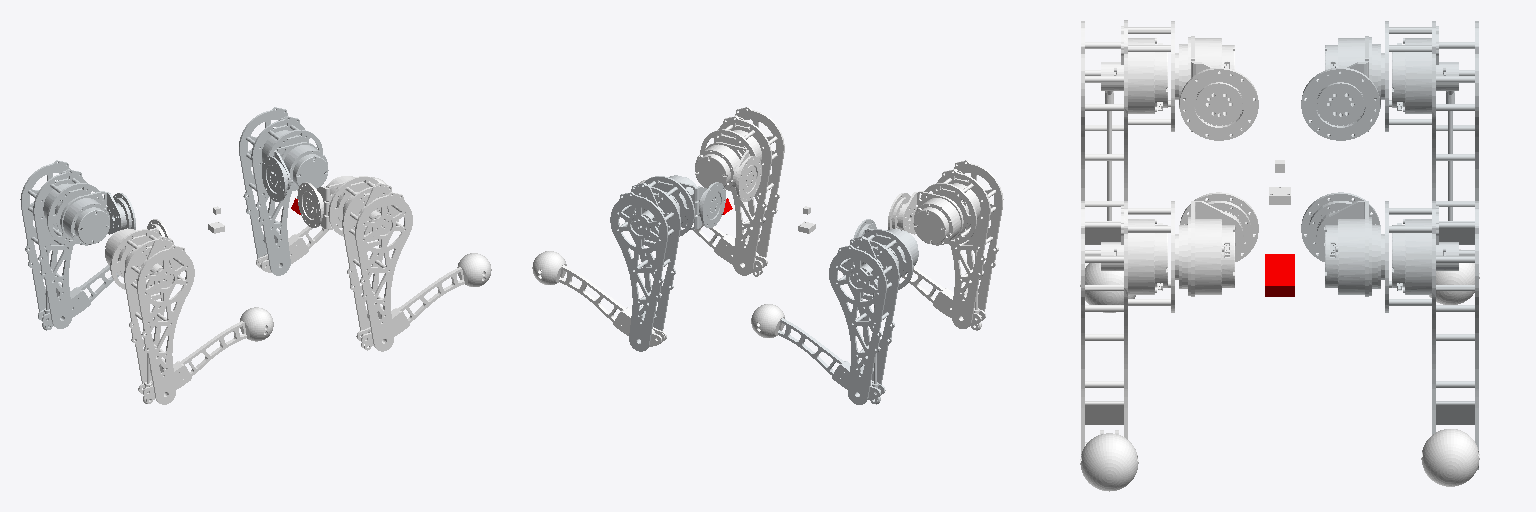
robot.urdf — newdog7:
<?xml version="1.0" encoding="utf-8"?>
<!-- Copyright (c) 2026 taojunfeng123
     SPDX-License-Identifier: Apache-2.0 -->

<!-- This URDF was automatically created by SolidWorks to URDF Exporter! Originally created by Stephen Brawner (brawner@gmail.com)
     Commit Version: 1.6.0-4-g7f85cfe  Build Version: 1.6.7995.38578
     For more information, please see http://wiki.ros.org/sw_urdf_exporter -->
<robot
  name="newdog7">
  <link
    name="base_link">
    <inertial>
      <origin
        xyz="3.33066907387547E-16 -1.52308721190764E-15 8.67361737988404E-19"
        rpy="0 0 0" />
      <mass
        value="0.0010000" />
      <inertia
        ixx="0.0000000"
        ixy="0.0000000"
        ixz="0.0000000"
        iyy="0.0000000"
        iyz="0.0000000"
        izz="0.0000000" />
    </inertial>
    <visual>
      <origin
        xyz="0 0 0"
        rpy="0 0 0" />
      <geometry>
        <mesh
          filename="package://newdog7/meshes/base_link.STL" />
      </geometry>
      <material
        name="">
        <color
          rgba="1 1 1 1" />
      </material>
    </visual>
    <collision>
      <origin
        xyz="0 0 0"
        rpy="0 0 0" />
      <geometry>
        <mesh
          filename="package://newdog7/meshes/base_link.STL" />
      </geometry>
    </collision>
  </link>
  <link
    name="trunk_link">
    <inertial>
      <origin
        xyz="-0.000914596355781658 -0.00588588083227612 -0.0101666909289931"
        rpy="0 0 0" />
      <mass
        value="4.6043039" />
      <inertia
        ixx="0.0304155"
        ixy="-0.0001536"
        ixz="-0.0000979"
        iyy="0.0576475"
        iyz="0.0001516"
        izz="0.0768428" />
    </inertial>
    <visual>
      <origin
        xyz="0 0 0"
        rpy="0 0 0" />
      <geometry>
        <mesh
          filename="package://newdog7/meshes/trunk_link.STL" />
      </geometry>
      <material
        name="">
        <color
          rgba="0 1 1 1" />
      </material>
    </visual>
    <collision>
      <origin
        xyz="0 0 0"
        rpy="0 0 0" />
      <geometry>
        <mesh
          filename="package://newdog7/meshes/trunk_link.STL" />
      </geometry>
    </collision>
  </link>
  <joint
    name="trunk_joint"
    type="fixed">
    <origin
      xyz="0 0 0"
      rpy="0 0 0" />
    <parent
      link="base_link" />
    <child
      link="trunk_link" />
    <axis
      xyz="0 0 0" />
  </joint>
  <link
    name="FL_hip_link">
    <inertial>
      <origin
        xyz="-0.027663 0.016036 -4.3486E-05"
        rpy="0 0 0" />
      <mass
        value="1.0790672" />
      <inertia
        ixx="0.0008140"
        ixy="-0.0001481"
        ixz="-0.0000001"
        iyy="0.0015634"
        iyz="-0.0000034"
        izz="0.0013876" />
    </inertial>
    <visual>
      <origin
        xyz="0 0 0"
        rpy="0 0 0" />
      <geometry>
        <mesh
          filename="package://newdog7/meshes/FL_hip_link.STL" />
      </geometry>
      <material
        name="">
        <color
          rgba="0.89804 0.91765 0.92941 1" />
      </material>
    </visual>
    <collision>
      <origin
        xyz="0 0 0"
        rpy="0 0 0" />
      <geometry>
        <mesh
          filename="package://newdog7/meshes/FL_hip_link.STL" />
      </geometry>
    </collision>
  </link>
  <joint
    name="FL_hip_joint"
    type="revolute">
    <origin
      xyz="0.219736600000002 0.0625499999999842 0"
      rpy="0 0 0" />
    <parent
      link="trunk_link" />
    <child
      link="FL_hip_link" />
    <axis
      xyz="-1 0 0" />
    <limit
      lower="-0.5522"
      upper="0.4007"
      effort="100"
      velocity="100" />
  </joint>
  <link
    name="FL_thigh_link">
    <inertial>
      <origin
        xyz="-0.003735 -0.017979 -0.04498"
        rpy="0 0 0" />
      <mass
        value="0.9731943" />
      <inertia
        ixx="0.0043557"
        ixy="0.0000417"
        ixz="-0.0001582"
        iyy="0.0019267"
        iyz="0.0005892"
        izz="0.0012665" />
    </inertial>
    <visual>
      <origin
        xyz="0 0 0"
        rpy="0 0 0" />
      <geometry>
        <mesh
          filename="package://newdog7/meshes/FL_thigh_link.STL" />
      </geometry>
      <material
        name="">
        <color
          rgba="0.89804 0.91765 0.92941 1" />
      </material>
    </visual>
    <collision>
      <origin
        xyz="0 0 0"
        rpy="0 0 0" />
      <geometry>
        <mesh
          filename="package://newdog7/meshes/FL_thigh_link.STL" />
      </geometry>
    </collision>
  </link>
  <joint
    name="FL_thigh_joint"
    type="revolute">
    <origin
      xyz="0 0.113000000000016 4.99999999798882E-05"
      rpy="0 0 0" />
    <parent
      link="FL_hip_link" />
    <child
      link="FL_thigh_link" />
    <axis
      xyz="0 -1 0" />
    <limit
      lower="-1.6601"
      upper="1.0000"
      effort="100"
      velocity="100" />
  </joint>
  <link
    name="FL_calf_link">
    <inertial>
      <origin
        xyz="0.025993 -5.5511E-17 0.056067"
        rpy="0 0 0" />
      <mass
        value="0.1721409" />
      <inertia
        ixx="0.0006392"
        ixy="0.0000000"
        ixz="-0.0002869"
        iyy="0.0007876"
        iyz="0.0000000"
        izz="0.0001583" />
    </inertial>
    <visual>
      <origin
        xyz="0 0 0"
        rpy="0 0 0" />
      <geometry>
        <mesh
          filename="package://newdog7/meshes/FL_calf_link.STL" />
      </geometry>
      <material
        name="">
        <color
          rgba="1 1 1 1" />
      </material>
    </visual>
    <collision>
      <origin
        xyz="0 0 0"
        rpy="0 0 0" />
      <geometry>
        <mesh
          filename="package://newdog7/meshes/FL_calf_link.STL" />
      </geometry>
    </collision>
  </link>
  <joint
    name="FL_calf_joint"
    type="revolute">
    <origin
      xyz="0 0 -0.220000000000001"
      rpy="0 0 0" />
    <parent
      link="FL_thigh_link" />
    <child
      link="FL_calf_link" />
    <axis
      xyz="0 -1 0" />
    <limit
      lower="-1.4042"
      upper="-0.0052"
      effort="100"
      velocity="100" />
  </joint>
  <link
    name="FL_foot_link">
    <inertial>
      <origin
        xyz="-0.00089398 -4.8815E-05 -0.0011987"
        rpy="0 0 0" />
      <mass
        value="0.0347400" />
      <inertia
        ixx="0.0000129"
        ixy="0.0000000"
        ixz="0.0000004"
        iyy="0.0000127"
        iyz="0.0000000"
        izz="0.0000131" />
    </inertial>
    <visual>
      <origin
        xyz="0 0 0"
        rpy="0 0 0" />
      <geometry>
        <mesh
          filename="package://newdog7/meshes/FL_foot_link.STL" />
      </geometry>
      <material
        name="">
        <color
          rgba="1 1 1 1" />
      </material>
    </visual>
    <collision>
      <origin
        xyz="0 0 0"
        rpy="0 0 0" />
      <geometry>
        <mesh
          filename="package://newdog7/meshes/FL_foot_link.STL" />
      </geometry>
    </collision>
  </link>
  <joint
    name="FL_foot_joint"
    type="fixed">
    <origin
      xyz="0.097188108287879 0 0.192544991245897"
      rpy="0 0 0" />
    <parent
      link="FL_calf_link" />
    <child
      link="FL_foot_link" />
    <axis
      xyz="0 0 0" />
  </joint>
  <link
    name="FR_hip_link">
    <inertial>
      <origin
        xyz="-0.027663 -0.016036 -4.3438E-05"
        rpy="0 0 0" />
      <mass
        value="1.0790672" />
      <inertia
        ixx="0.0008140"
        ixy="0.0001481"
        ixz="-0.0000001"
        iyy="0.0015634"
        iyz="0.0000034"
        izz="0.0013876" />
    </inertial>
    <visual>
      <origin
        xyz="0 0 0"
        rpy="0 0 0" />
      <geometry>
        <mesh
          filename="package://newdog7/meshes/FR_hip_link.STL" />
      </geometry>
      <material
        name="">
        <color
          rgba="1 1 1 1" />
      </material>
    </visual>
    <collision>
      <origin
        xyz="0 0 0"
        rpy="0 0 0" />
      <geometry>
        <mesh
          filename="package://newdog7/meshes/FR_hip_link.STL" />
      </geometry>
    </collision>
  </link>
  <joint
    name="FR_hip_joint"
    type="revolute">
    <origin
      xyz="0.219736600000002 -0.0625499999999764 0"
      rpy="0 0 0" />
    <parent
      link="trunk_link" />
    <child
      link="FR_hip_link" />
    <axis
      xyz="-1 0 0" />
    <limit
      lower="-0.4049"
      upper="0.7582"
      effort="100"
      velocity="100" />
  </joint>
  <link
    name="FR_thigh_link">
    <inertial>
      <origin
        xyz="-0.0037532 0.017969 -0.045081"
        rpy="0 0 0" />
      <mass
        value="0.9703371 " />
      <inertia
        ixx="0.0043506"
        ixy="-0.0000419"
        ixz="-0.0001589"
        iyy="0.0019028"
        iyz="-0.0005910"
        izz="0.0012644" />
    </inertial>
    <visual>
      <origin
        xyz="0 0 0"
        rpy="0 0 0" />
      <geometry>
        <mesh
          filename="package://newdog7/meshes/FR_thigh_link.STL" />
      </geometry>
      <material
        name="">
        <color
          rgba="1 1 1 1" />
      </material>
    </visual>
    <collision>
      <origin
        xyz="0 0 0"
        rpy="0 0 0" />
      <geometry>
        <mesh
          filename="package://newdog7/meshes/FR_thigh_link.STL" />
      </geometry>
    </collision>
  </link>
  <joint
    name="FR_thigh_joint"
    type="revolute">
    <origin
      xyz="0 -0.112999999999979 4.99999999777215E-05"
      rpy="0 0 0" />
    <parent
      link="FR_hip_link" />
    <child
      link="FR_thigh_link" />
    <axis
      xyz="0 1 0" />
    <limit
      lower="-0.8261"
      upper="1.7418"
      effort="100"
      velocity="100" />
  </joint>
  <link
    name="FR_calf_link">
    <inertial>
      <origin
        xyz="0.026127 1.6653E-16 0.056277"
        rpy="0 0 0" />
      <mass
        value="0.1716383" />
      <inertia
        ixx="0.0006366"
        ixy="0.0000000"
        ixz="-0.0002853"
        iyy="0.0007840"
        iyz="0.0000000"
        izz="0.0001572" />
    </inertial>
    <visual>
      <origin
        xyz="0 0 0"
        rpy="0 0 0" />
      <geometry>
        <mesh
          filename="package://newdog7/meshes/FR_calf_link.STL" />
      </geometry>
      <material
        name="">
        <color
          rgba="1 1 1 1" />
      </material>
    </visual>
    <collision>
      <origin
        xyz="0 0 0"
        rpy="0 0 0" />
      <geometry>
        <mesh
          filename="package://newdog7/meshes/FR_calf_link.STL" />
      </geometry>
    </collision>
  </link>
  <joint
    name="FR_calf_joint"
    type="revolute">
    <origin
      xyz="0 0 -0.219999999999998"
      rpy="0 0 0" />
    <parent
      link="FR_thigh_link" />
    <child
      link="FR_calf_link" />
    <axis
      xyz="0 1 0" />
    <limit
      lower="0.0175"
      upper="1.4368"
      effort="100"
      velocity="100" />
  </joint>
  <link
    name="FR_foot_link">
    <inertial>
      <origin
        xyz="-0.00089398 4.8818E-05 -0.0011987"
        rpy="0 0 0" />
      <mass
        value="0.0347400" />
      <inertia
        ixx="0.0000129"
        ixy="0.0000000"
        ixz="0.0000004"
        iyy="0.0000127"
        iyz="0.0000000"
        izz="0.0000131" />
    </inertial>
    <visual>
      <origin
        xyz="0 0 0"
        rpy="0 0 0" />
      <geometry>
        <mesh
          filename="package://newdog7/meshes/FR_foot_link.STL" />
      </geometry>
      <material
        name="">
        <color
          rgba="1 1 1 1" />
      </material>
    </visual>
    <collision>
      <origin
        xyz="0 0 0"
        rpy="0 0 0" />
      <geometry>
        <mesh
          filename="package://newdog7/meshes/FR_foot_link.STL" />
      </geometry>
    </collision>
  </link>
  <joint
    name="FR_foot_joint"
    type="fixed">
    <origin
      xyz="0.097188113678866 0 0.192544983915192"
      rpy="0 0 0" />
    <parent
      link="FR_calf_link" />
    <child
      link="FR_foot_link" />
    <axis
      xyz="0 0 0" />
  </joint>
  <link
    name="RL_hip_link">
    <inertial>
      <origin
        xyz="0.0275370203353642 0.016035850006297 -4.3485968027542E-05"
        rpy="0 0 0" />
      <mass
        value="1.0790672" />
      <inertia
        ixx="0.0008140"
        ixy="0.0001473"
        ixz="-0.0000159"
        iyy="0.0015847"
        iyz="-0.0000034"
        izz="0.0014089" />
    </inertial>
    <visual>
      <origin
        xyz="0 0 0"
        rpy="0 0 0" />
      <geometry>
        <mesh
          filename="package://newdog7/meshes/RL_hip_link.STL" />
      </geometry>
      <material
        name="">
        <color
          rgba="0.898039215686275 0.917647058823529 0.929411764705882 1" />
      </material>
    </visual>
    <collision>
      <origin
        xyz="0 0 0"
        rpy="0 0 0" />
      <geometry>
        <mesh
          filename="package://newdog7/meshes/RL_hip_link.STL" />
      </geometry>
    </collision>
  </link>
  <joint
    name="RL_hip_joint"
    type="revolute">
    <origin
      xyz="-0.219736600000007 0.0625499999999842 0"
      rpy="0 0 0" />
    <parent
      link="trunk_link" />
    <child
      link="RL_hip_link" />
    <axis
      xyz="1 0 0" />
    <limit
      lower="-0.4061"
      upper="0.8384"
      effort="100"
      velocity="100" />
  </joint>
  <link
    name="RL_thigh_link">
    <inertial>
      <origin
        xyz="-0.00375129650168743 -0.0179606285310873 -0.0451765685552273"
        rpy="0 0 0" />
      <mass
        value="0.9736970" />
      <inertia
        ixx="0.0043788"
        ixy="0.0000419"
        ixz="-0.0001600"
        iyy="0.0040626"
        iyz="0.0005917"
        izz="0.0012669" />
    </inertial>
    <visual>
      <origin
        xyz="0 0 0"
        rpy="0 0 0" />
      <geometry>
        <mesh
          filename="package://newdog7/meshes/RL_thigh_link.STL" />
      </geometry>
      <material
        name="">
        <color
          rgba="0.898039215686275 0.917647058823529 0.929411764705882 1" />
      </material>
    </visual>
    <collision>
      <origin
        xyz="0 0 0"
        rpy="0 0 0" />
      <geometry>
        <mesh
          filename="package://newdog7/meshes/RL_thigh_link.STL" />
      </geometry>
    </collision>
  </link>
  <joint
    name="RL_thigh_joint"
    type="revolute">
    <origin
      xyz="0 0.113000000000016 5.00000000046436E-05"
      rpy="0 0 0" />
    <parent
      link="RL_hip_link" />
    <child
      link="RL_thigh_link" />
    <axis
      xyz="0 -1 0" />
    <limit
      lower="-1.6938"
      upper="0.0715"
      effort="100"
      velocity="100" />
  </joint>
  <link
    name="RL_calf_link">
    <inertial>
      <origin
        xyz="0.026127 -5.5511E-17 0.056277"
        rpy="0 0 0" />
      <mass
        value="0.1716383" />
      <inertia
        ixx="0.0006366"
        ixy="0.0000000"
        ixz="-0.0002853"
        iyy="0.0007840"
        iyz="0.0000000"
        izz="0.0001572" />
    </inertial>
    <visual>
      <origin
        xyz="0 0 0"
        rpy="0 0 0" />
      <geometry>
        <mesh
          filename="package://newdog7/meshes/RL_calf_link.STL" />
      </geometry>
      <material
        name="">
        <color
          rgba="0.89804 0.91765 0.92941 1" />
      </material>
    </visual>
    <collision>
      <origin
        xyz="0 0 0"
        rpy="0 0 0" />
      <geometry>
        <mesh
          filename="package://newdog7/meshes/RL_calf_link.STL" />
      </geometry>
    </collision>
  </link>
  <joint
    name="RL_calf_joint"
    type="revolute">
    <origin
      xyz="0 0 -0.220000000000003"
      rpy="0 0 0" />
    <parent
      link="RL_thigh_link" />
    <child
      link="RL_calf_link" />
    <axis
      xyz="0 -1 0" />
    <limit
      lower="-1.3881"
      upper="-0.0136"
      effort="100"
      velocity="100" />
  </joint>
  <link
    name="RL_foot_link">
    <inertial>
      <origin
        xyz="-0.00089398 -4.8815E-05 -0.0011987"
        rpy="0 0 0" />
      <mass
        value="0.0347400" />
      <inertia
        ixx="0.0000129"
        ixy="0.0000000"
        ixz="0.0000004"
        iyy="0.0000127"
        iyz="0.0000000"
        izz="0.0000131" />
    </inertial>
    <visual>
      <origin
        xyz="0 0 0"
        rpy="0 0 0" />
      <geometry>
        <mesh
          filename="package://newdog7/meshes/RL_foot_link.STL" />
      </geometry>
      <material
        name="">
        <color
          rgba="1 1 1 1" />
      </material>
    </visual>
    <collision>
      <origin
        xyz="0 0 0"
        rpy="0 0 0" />
      <geometry>
        <mesh
          filename="package://newdog7/meshes/RL_foot_link.STL" />
      </geometry>
    </collision>
  </link>
  <joint
    name="RL_foot_joint"
    type="fixed">
    <origin
      xyz="0.0971881082879007 0 0.192544991245896"
      rpy="0 0 0" />
    <parent
      link="RL_calf_link" />
    <child
      link="RL_foot_link" />
    <axis
      xyz="0 0 0" />
  </joint>
  <link
    name="RR_hip_link">
    <inertial>
      <origin
        xyz="0.02753707651014 -0.0160358508110011 -4.34381982042801E-05"
        rpy="0 0 0" />
      <mass
        value="1.0790672" />
      <inertia
        ixx="0.0008140"
        ixy="-0.0001473"
        ixz="-0.0000159"
        iyy="0.0015847"
        iyz="0.0000034"
        izz="0.0014089" />
    </inertial>
    <visual>
      <origin
        xyz="0 0 0"
        rpy="0 0 0" />
      <geometry>
        <mesh
          filename="package://newdog7/meshes/RR_hip_link.STL" />
      </geometry>
      <material
        name="">
        <color
          rgba="1 1 1 1" />
      </material>
    </visual>
    <collision>
      <origin
        xyz="0 0 0"
        rpy="0 0 0" />
      <geometry>
        <mesh
          filename="package://newdog7/meshes/RR_hip_link.STL" />
      </geometry>
    </collision>
  </link>
  <joint
    name="RR_hip_joint"
    type="revolute">
    <origin
      xyz="-0.219736600000007 -0.0625499999999764 0"
      rpy="0 0 0" />
    <parent
      link="trunk_link" />
    <child
      link="RR_hip_link" />
    <axis
      xyz="1 0 0" />
    <limit
      lower="-0.6692"
      upper="0.4436"
      effort="100"
      velocity="100" />
  </joint>
  <link
    name="RR_thigh_link">
    <inertial>
      <origin
        xyz="-0.0037532 0.017969 -0.045081"
        rpy="0 0 0" />
      <mass
        value="0.9703371" />
      <inertia
        ixx="0.0043506"
        ixy="-0.0000419"
        ixz="-0.0001589"
        iyy="0.0040321"
        iyz="-0.0005910"
        izz="0.0012644" />
    </inertial>
    <visual>
      <origin
        xyz="0 0 0"
        rpy="0 0 0" />
      <geometry>
        <mesh
          filename="package://newdog7/meshes/RR_thigh_link.STL" />
      </geometry>
      <material
        name="">
        <color
          rgba="1 1 1 1" />
      </material>
    </visual>
    <collision>
      <origin
        xyz="0 0 0"
        rpy="0 0 0" />
      <geometry>
        <mesh
          filename="package://newdog7/meshes/RR_thigh_link.STL" />
      </geometry>
    </collision>
  </link>
  <joint
    name="RR_thigh_joint"
    type="revolute">
    <origin
      xyz="0 -0.112999999999978 5.00000000001229E-05"
      rpy="0 0 0" />
    <parent
      link="RR_hip_link" />
    <child
      link="RR_thigh_link" />
    <axis
      xyz="0 1 0" />
    <limit
      lower="-0.0681"
      upper="1.7851"
      effort="100"
      velocity="100" />
  </joint>
  <link
    name="RR_calf_link">
    <inertial>
      <origin
        xyz="0.026127 -6.7002E-14 0.056277"
        rpy="0 0 0" />
      <mass
        value="0.1716383" />
      <inertia
        ixx="0.0006366"
        ixy=" 0.0000000"
        ixz="-0.0002853"
        iyy="0.0007840"
        iyz="0.0000000"
        izz="0.0001572" />
    </inertial>
    <visual>
      <origin
        xyz="0 0 0"
        rpy="0 0 0" />
      <geometry>
        <mesh
          filename="package://newdog7/meshes/RR_calf_link.STL" />
      </geometry>
      <material
        name="">
        <color
          rgba="1 1 1 1" />
      </material>
    </visual>
    <collision>
      <origin
        xyz="0 0 0"
        rpy="0 0 0" />
      <geometry>
        <mesh
          filename="package://newdog7/meshes/RR_calf_link.STL" />
      </geometry>
    </collision>
  </link>
  <joint
    name="RR_calf_joint"
    type="revolute">
    <origin
      xyz="0 0 -0.219999999999998"
      rpy="0 0 0" />
    <parent
      link="RR_thigh_link" />
    <child
      link="RR_calf_link" />
    <axis
      xyz="0 1 0" />
    <limit
      lower="0.0117"
      upper="1.4629"
      effort="100"
      velocity="100" />
  </joint>
  <link
    name="RR_foot_link">
    <inertial>
      <origin
        xyz="-0.00089398 4.8818E-05 -0.0011987"
        rpy="0 0 0" />
      <mass
        value="0.0347400" />
      <inertia
        ixx="0.0000129"
        ixy="0.0000000"
        ixz="0.0000004"
        iyy="0.0000127"
        iyz="0.0000000"
        izz="0.0000131" />
    </inertial>
    <visual>
      <origin
        xyz="0 0 0"
        rpy="0 0 0" />
      <geometry>
        <mesh
          filename="package://newdog7/meshes/RR_foot_link.STL" />
      </geometry>
      <material
        name="">
        <color
          rgba="1 1 1 1" />
      </material>
    </visual>
    <collision>
      <origin
        xyz="0 0 0"
        rpy="0 0 0" />
      <geometry>
        <mesh
          filename="package://newdog7/meshes/RR_foot_link.STL" />
      </geometry>
    </collision>
  </link>
  <joint
    name="RR_foot_joint"
    type="fixed">
    <origin
      xyz="0.0971881136788905 0 0.192544983915191"
      rpy="0 0 0" />
    <parent
      link="RR_calf_link" />
    <child
      link="RR_foot_link" />
    <axis
      xyz="0 0 0" />
  </joint>
  <link
    name="imu_link">
    <inertial>
      <origin
        xyz="-0.00012677 1.9776E-16 -0.033"
        rpy="0 0 0" />
      <mass
        value="0.0080000" />
      <inertia
        ixx="0.0000004"
        ixy="0.0000000"
        ixz="0.0000000"
        iyy="0.0000004"
        iyz="0.0000000"
        izz="0.0000006" />
    </inertial>
    <visual>
      <origin
        xyz="0 0 0"
        rpy="0 0 0" />
      <geometry>
        <mesh
          filename="package://newdog7/meshes/imu_link.STL" />
      </geometry>
      <material
        name="">
        <color
          rgba="1 1 1 1" />
      </material>
    </visual>
    <collision>
      <origin
        xyz="0 0 0"
        rpy="0 0 0" />
      <geometry>
        <mesh
          filename="package://newdog7/meshes/imu_link.STL" />
      </geometry>
    </collision>
  </link>
  <joint
    name="imu_joint"
    type="fixed">
    <origin
      xyz="0 0 0"
      rpy="0 0 0" />
    <parent
      link="trunk_link" />
    <child
      link="imu_link" />
    <axis
      xyz="0 0 0" />
  </joint>
  <!-- 前倾雷达：安装在身体前方上部，向前下方约30°倾斜，用于探测梅花桩等前方地形 -->
  <link
    name="radar_link">
    <inertial>
      <origin xyz="0 0 0" rpy="0 0 0" />
      <mass value="0.05" />
      <inertia ixx="0.0001" ixy="0" ixz="0" iyy="0.0001" iyz="0" izz="0.0001" />
    </inertial>
    <visual>
      <origin xyz="0 0 0" rpy="0 0 0" />
      <geometry>
        <box size="0.04 0.03 0.02" />
      </geometry>
      <material name="radar_material">
        <color rgba="1 0 0 1" />
      </material>
    </visual>
    <collision>
      <origin xyz="0 0 0" rpy="0 0 0" />
      <geometry>
        <box size="0.04 0.03 0.02" />
      </geometry>
    </collision>
  </link>
  <joint
    name="radar_joint"
    type="fixed">
    <origin
      xyz="0.18 0 -0.04"
      rpy="0 0.5 0" />
    <parent link="trunk_link" />
    <child link="radar_link" />
    <axis xyz="0 0 0" />
  </joint>
</robot>

--- Render facts (derived) ---
Views: 3 orthographic renders of the robot side by side, from view 1: azimuth 30°, elevation 25°; view 2: azimuth 150°, elevation 25°; view 3: azimuth 270°, elevation 25°.
Model newdog7 with 20 links and 19 joints (12 revolute, 7 fixed), rooted at base_link, posed all joints at 0 but 4 set to mid-range because 0 is outside their limits (FL_calf_joint = -0.7047, FR_calf_joint = 0.7271, RL_calf_joint = -0.7008, RR_calf_joint = 0.7373).
Links seen in each view (by area): view 1: RR_thigh_link, FR_thigh_link, RL_thigh_link, FL_thigh_link, RL_hip_link, FL_hip_link, FR_hip_link, FR_calf_link, RR_calf_link, RL_calf_link, RR_foot_link, FR_foot_link (+2 smaller); view 2: RL_thigh_link, FL_thigh_link, RR_thigh_link, FR_thigh_link, RR_hip_link, FR_hip_link, FL_hip_link, FL_calf_link, RL_calf_link, RR_calf_link, FL_foot_link, RL_foot_link (+2 smaller); view 3: FR_thigh_link, FL_thigh_link, RR_thigh_link, RL_thigh_link, RL_hip_link, RR_hip_link, FL_hip_link, FR_hip_link, FR_foot_link, FL_foot_link, radar_link, RR_foot_link (+1 smaller).
Boxes of the visible links, box(x1,y1,x2,y2) form: RR_thigh_link: box(110, 229, 194, 404); FR_thigh_link: box(328, 176, 412, 351); RL_thigh_link: box(20, 160, 103, 330); FL_thigh_link: box(239, 107, 322, 275); RL_hip_link: box(60, 191, 135, 245); FL_hip_link: box(262, 142, 328, 201); FR_hip_link: box(297, 176, 362, 229); FR_calf_link: box(356, 267, 464, 345); RR_calf_link: box(138, 321, 246, 399); RL_calf_link: box(38, 265, 118, 325); RR_foot_link: box(240, 307, 273, 341); FR_foot_link: box(457, 253, 491, 286); RL_thigh_link: box(829, 229, 913, 404); FL_thigh_link: box(610, 176, 694, 351); RR_thigh_link: box(920, 160, 1003, 330); FR_thigh_link: box(700, 107, 784, 276); RR_hip_link: box(888, 191, 963, 245); FR_hip_link: box(695, 142, 761, 201); FL_hip_link: box(660, 175, 725, 229); FL_calf_link: box(559, 265, 666, 346); RL_calf_link: box(778, 318, 885, 399); RR_calf_link: box(902, 267, 985, 325); FL_foot_link: box(532, 251, 566, 284); RL_foot_link: box(751, 304, 784, 337); FR_thigh_link: box(1081, 201, 1178, 453); FL_thigh_link: box(1381, 201, 1478, 469); RR_thigh_link: box(1081, 20, 1178, 267); RL_thigh_link: box(1381, 21, 1478, 244); RL_hip_link: box(1301, 36, 1380, 140); RR_hip_link: box(1179, 36, 1258, 140); FL_hip_link: box(1301, 192, 1380, 296); FR_hip_link: box(1179, 192, 1258, 296); FR_foot_link: box(1080, 433, 1138, 491); FL_foot_link: box(1421, 429, 1479, 486); radar_link: box(1265, 254, 1294, 296); RR_foot_link: box(1080, 263, 1135, 312).
Bounding box of the posed robot: 0.7247 × 0.411 × 0.3074 m (x, y, z).
18 mesh visuals loaded from 19 distinct referenced files (18 binary STL); not drawn: 1 (reference not matched to a file when rendering).
